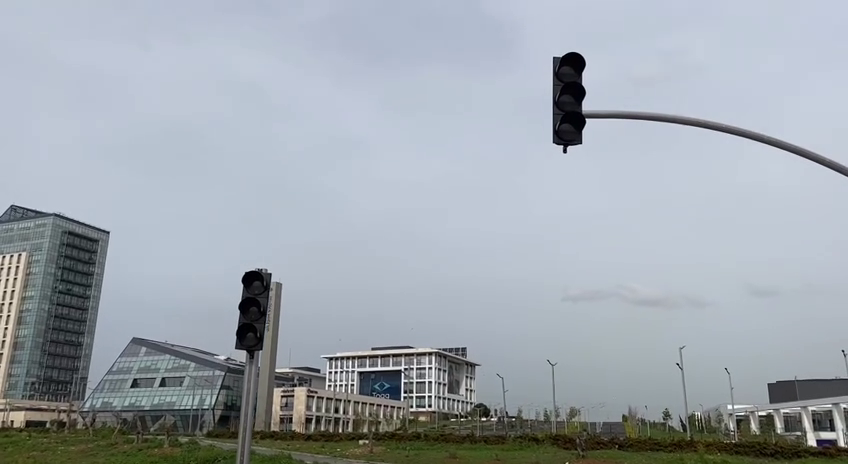trafficLight: (546, 47, 592, 156), (232, 265, 275, 358)
